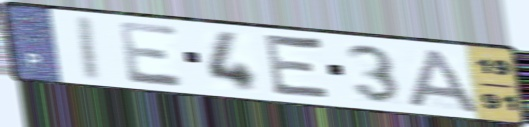3: (344, 43, 404, 105)
4: (203, 28, 264, 95)
A: (405, 47, 484, 115)
E: (262, 30, 336, 104), (116, 19, 188, 89)
I: (77, 13, 105, 84)
